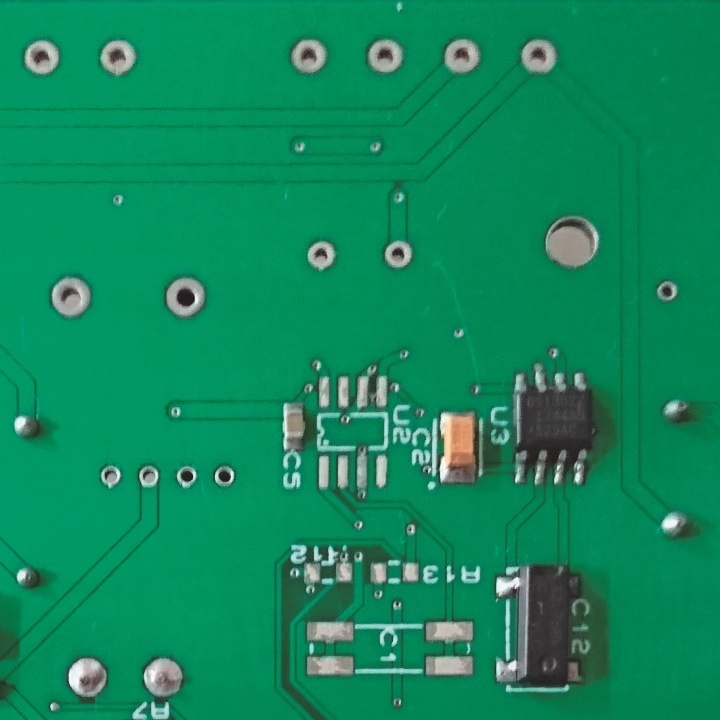F: (49, 272, 96, 323), (139, 654, 185, 699), (162, 273, 204, 319), (440, 38, 486, 78), (94, 38, 138, 78), (67, 654, 107, 698), (19, 38, 63, 77), (521, 35, 558, 77), (290, 35, 328, 75), (363, 37, 404, 74), (382, 239, 418, 272), (304, 241, 337, 271), (96, 459, 121, 491), (213, 461, 237, 490), (173, 466, 199, 490), (134, 464, 161, 487), (656, 279, 679, 306)
